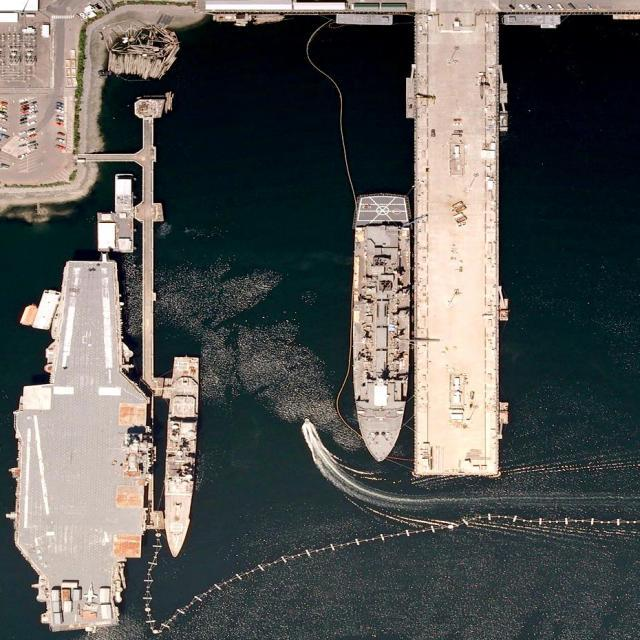Aircraft Carrier: (10, 259, 151, 634)
Cruiser: (162, 356, 199, 557)
Dock: (414, 12, 500, 473), (136, 98, 164, 396)
Other Warship: (352, 195, 412, 463)
